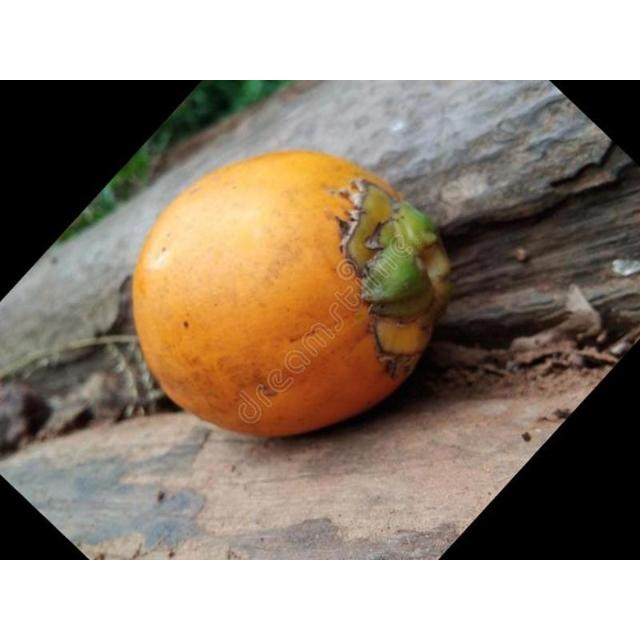good: (130, 150, 452, 439)
